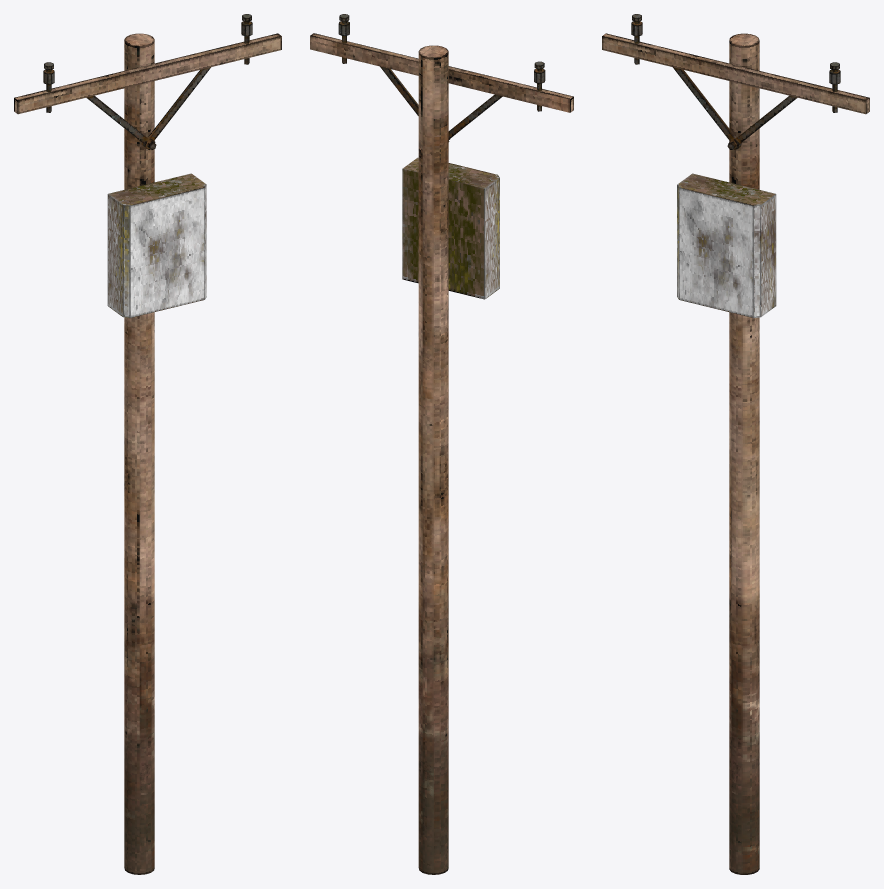
Rendered from E_Pole_5.glb.
3 renders of one model, left to right at view 1: azimuth 30°, elevation 25°; view 2: azimuth 150°, elevation 25°; view 3: azimuth 330°, elevation 25°, orthographic.
Parts seen in each view (by area): view 1: E_Pole_5; view 2: E_Pole_5; view 3: E_Pole_5.
Boxes of the visible parts, bbox=[...] form: E_Pole_5: bbox=[14, 14, 281, 874]; E_Pole_5: bbox=[310, 14, 573, 874]; E_Pole_5: bbox=[602, 14, 869, 874].
Bounding box in the file's own units: 2 × 6.04 × 0.4671.
1 material, 1 textured.
